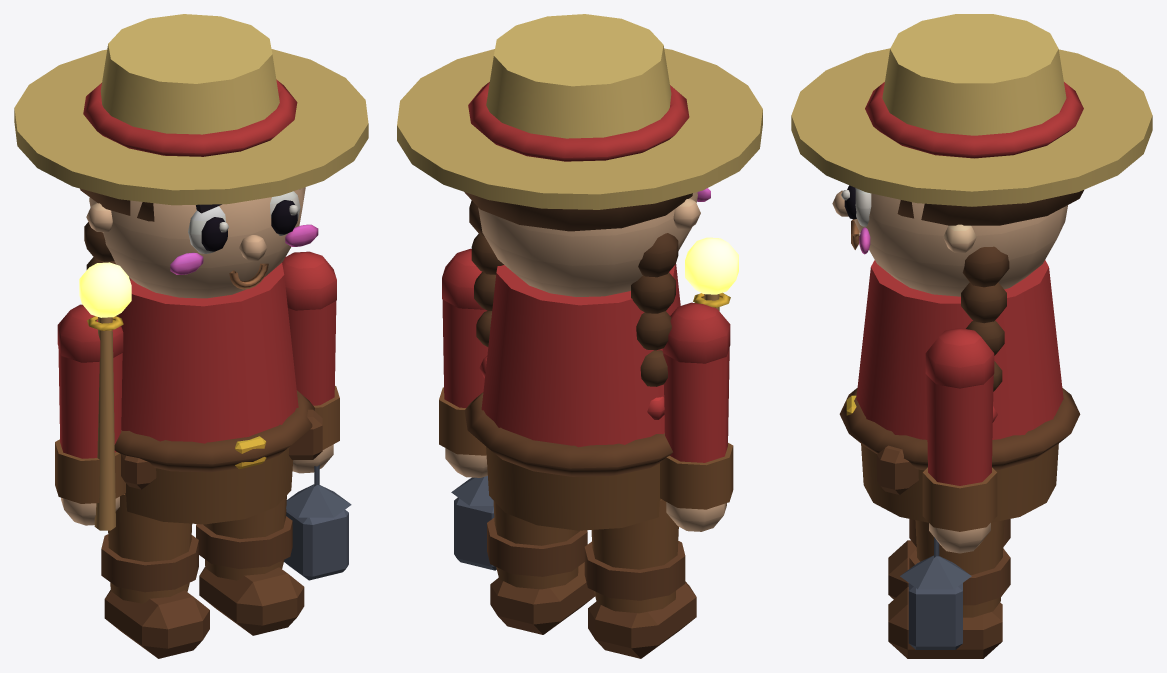
The model's file is hero_penny.glb.
3 renders of one model, left to right at view 1: azimuth 30°, elevation 25°; view 2: azimuth 150°, elevation 25°; view 3: azimuth 270°, elevation 25°, orthographic. The views are drawn at different scales.
Visible parts, largest first — view 1: body_t0_palette, arml_t0_palette, armr_t0_palette, legl_t0_palette, legr_t0_palette, arml_t0_glow_gold; view 2: body_t0_palette, arml_t0_palette, legl_t0_palette, armr_t0_palette, legr_t0_palette, arml_t0_glow_gold; view 3: body_t0_palette, armr_t0_palette, legr_t0_palette, legl_t0_palette.
Boxes of the visible parts, box(x1,y1,x2,y2) form: body_t0_palette: box(14, 14, 368, 524); arml_t0_palette: box(55, 304, 125, 530); armr_t0_palette: box(282, 251, 351, 580); legl_t0_palette: box(101, 494, 209, 658); legr_t0_palette: box(196, 495, 304, 635); arml_t0_glow_gold: box(79, 262, 131, 317); body_t0_palette: box(397, 14, 762, 530); arml_t0_palette: box(660, 293, 733, 531); legl_t0_palette: box(584, 499, 696, 658); armr_t0_palette: box(439, 248, 496, 570); legr_t0_palette: box(487, 501, 594, 634); arml_t0_glow_gold: box(685, 237, 738, 294); body_t0_palette: box(791, 14, 1152, 522); armr_t0_palette: box(900, 328, 997, 649); legr_t0_palette: box(888, 520, 1010, 658); legl_t0_palette: box(888, 519, 1010, 599).
Bounding box in the file's own units: 0.3 × 0.53 × 0.3.
